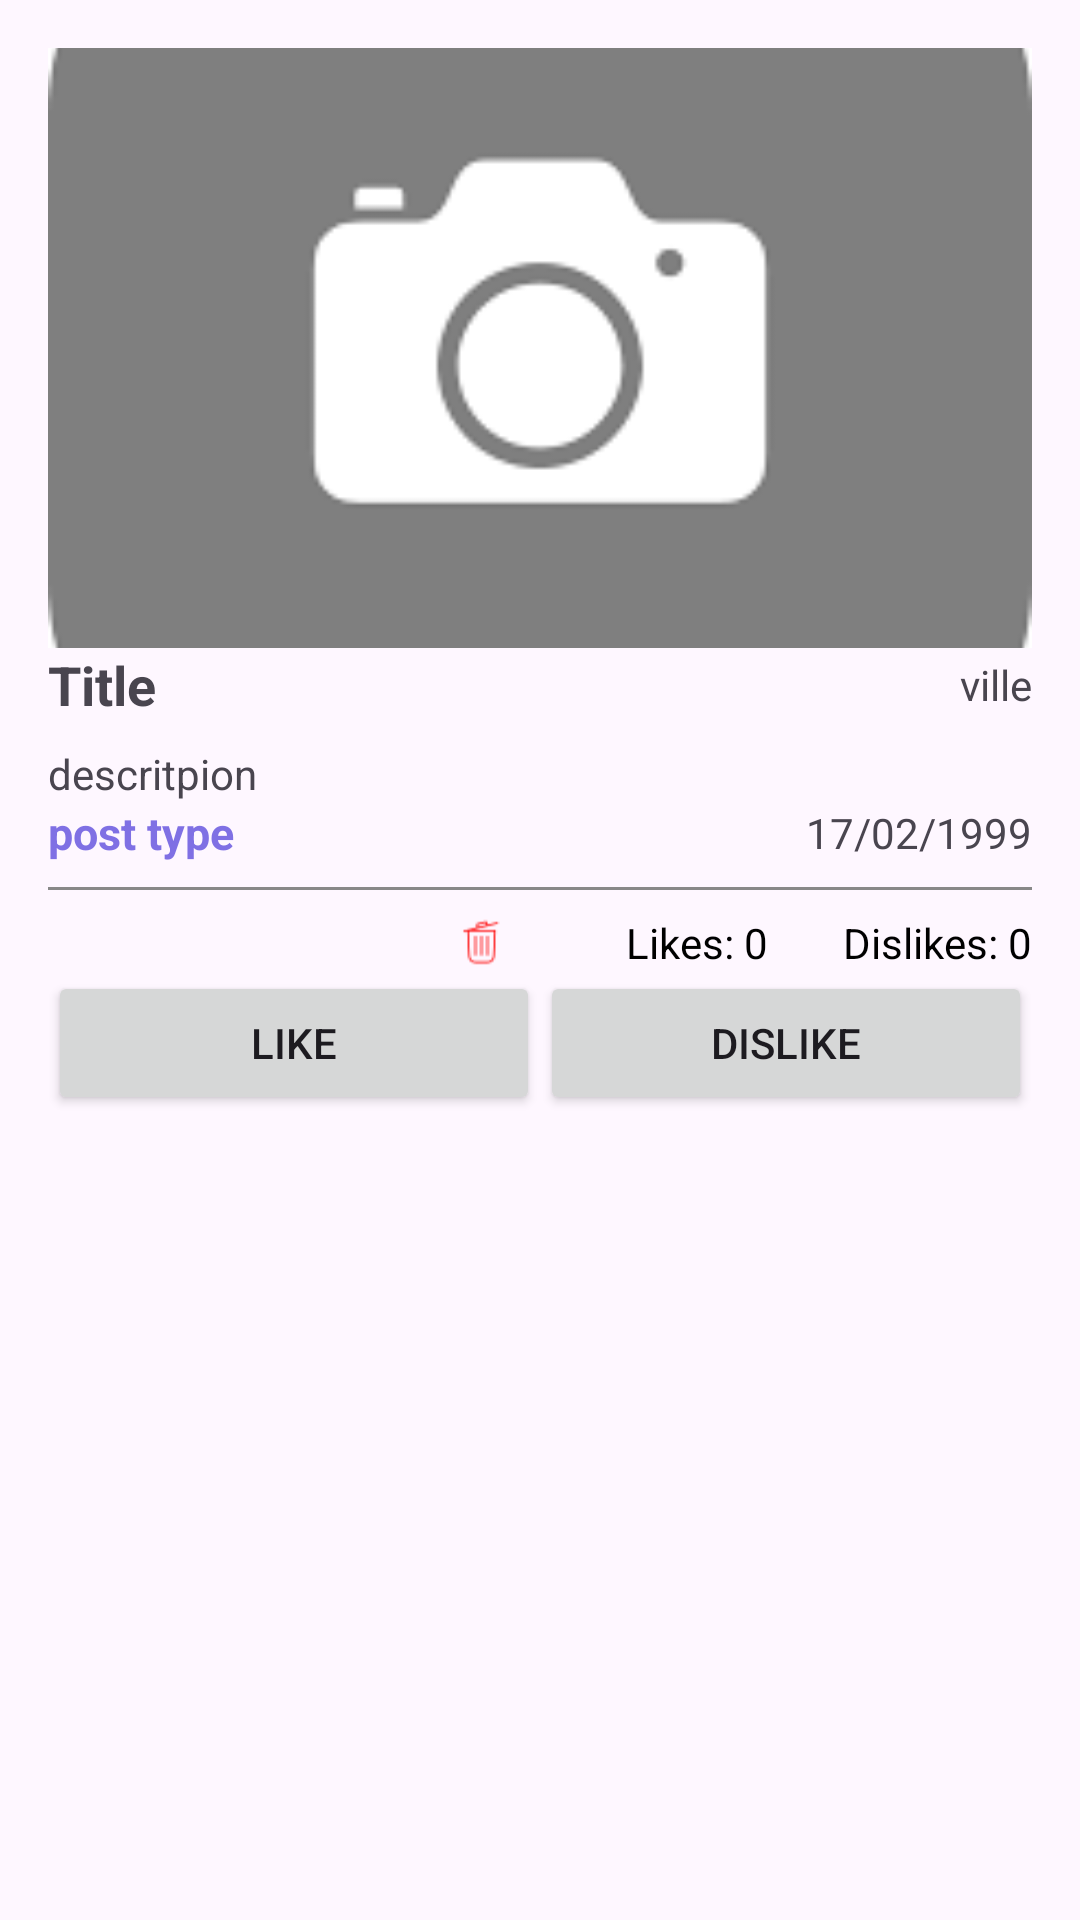

Point at icon controls on the screen. Image size 1080 x 1920, points as (x=x, y=y).
trash: (x=481, y=942)
